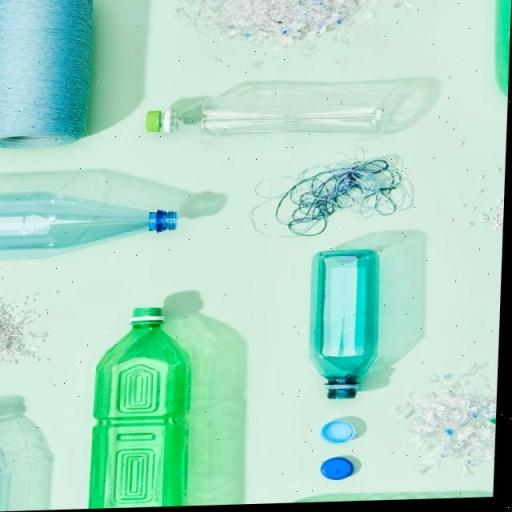plastic: (90, 306, 197, 510), (0, 188, 182, 260), (143, 94, 391, 140), (309, 251, 384, 403)
